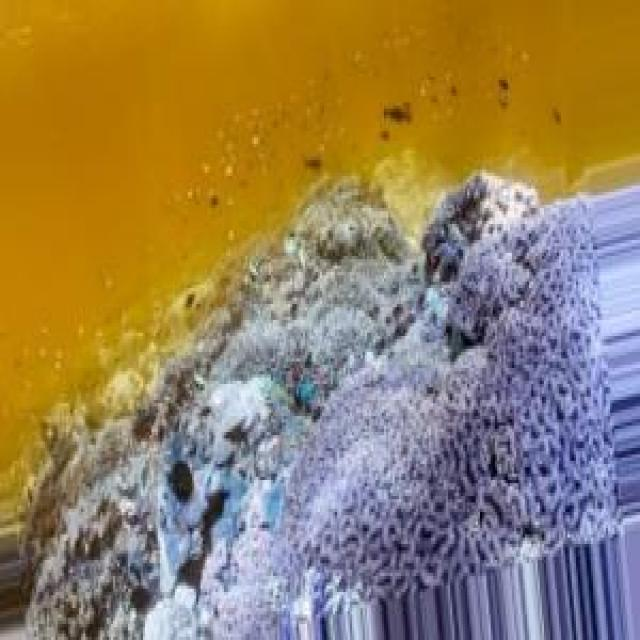Healthy: (285, 209, 618, 577), (347, 180, 613, 593), (95, 350, 327, 625), (449, 251, 618, 555), (216, 183, 421, 347), (423, 174, 547, 340)
